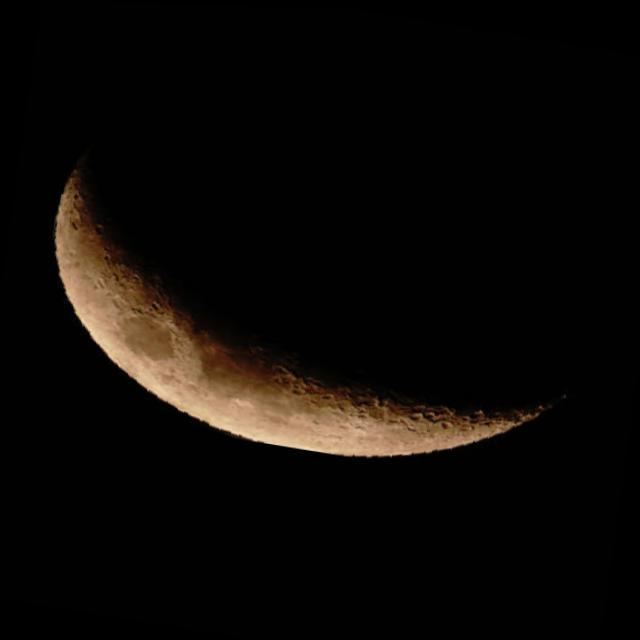moon: (28, 0, 640, 498)
